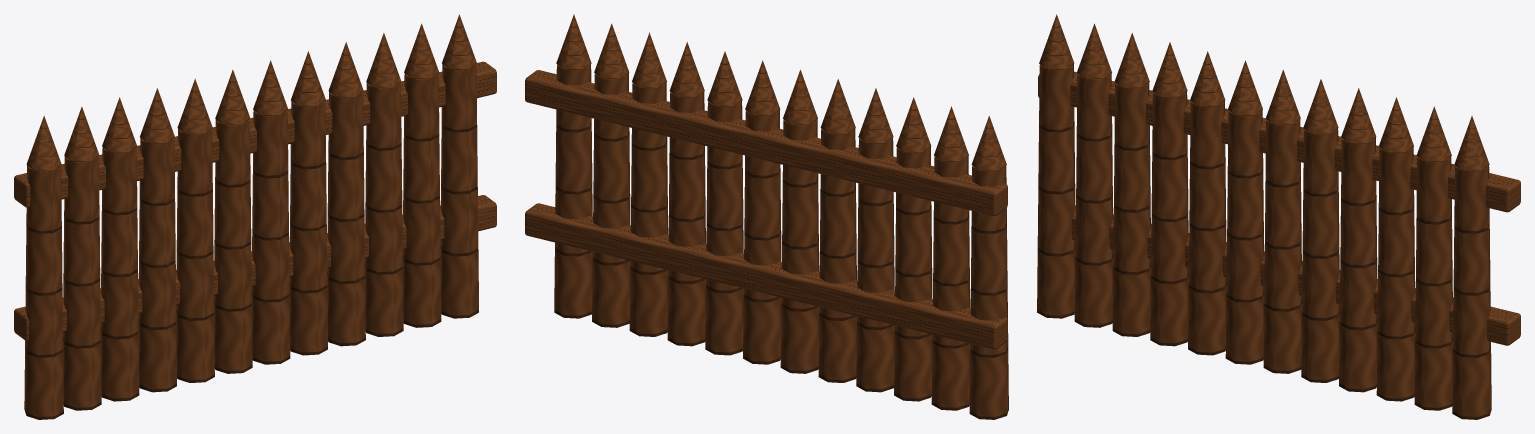
File: rural-scavenging-settlements-picket-boundary-15680475__26602.glb
The picture shows the model from 3 angles, left to right: view 1: azimuth 30°, elevation 25°; view 2: azimuth 150°, elevation 25°; view 3: azimuth 330°, elevation 25°; orthographic projection.
Parts seen in each view (by area): view 1: picket-boundary; view 2: picket-boundary; view 3: picket-boundary.
Boxes of the visible parts, x1,y1,x2,y2 form: picket-boundary: [14, 14, 496, 419]; picket-boundary: [525, 14, 1008, 419]; picket-boundary: [1037, 14, 1520, 419].
Size of the model in its own units: 2 by 1.2 by 0.167.
Materials: 1 (1 with a texture image).
